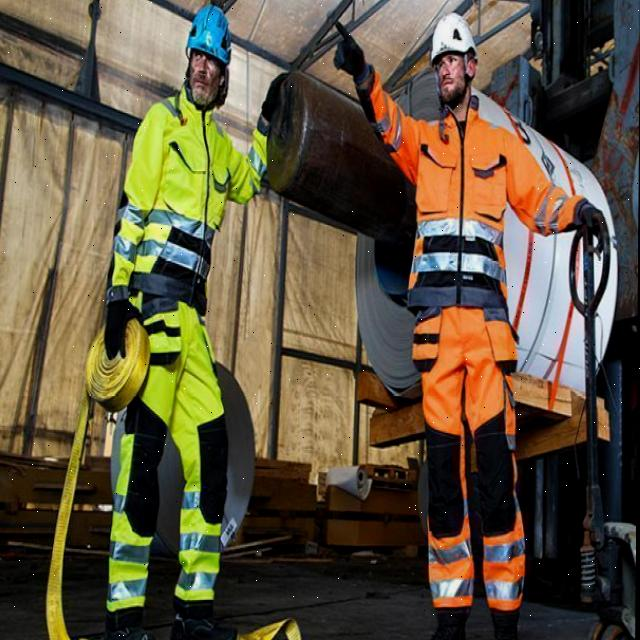Gloves: (322, 17, 373, 81), (103, 299, 141, 360), (260, 73, 290, 121), (573, 199, 605, 237)
Helmet: (185, 4, 231, 66), (429, 12, 477, 66)
Safety-Boot: (169, 610, 238, 640), (417, 607, 471, 640), (103, 607, 157, 640), (490, 607, 522, 640)
